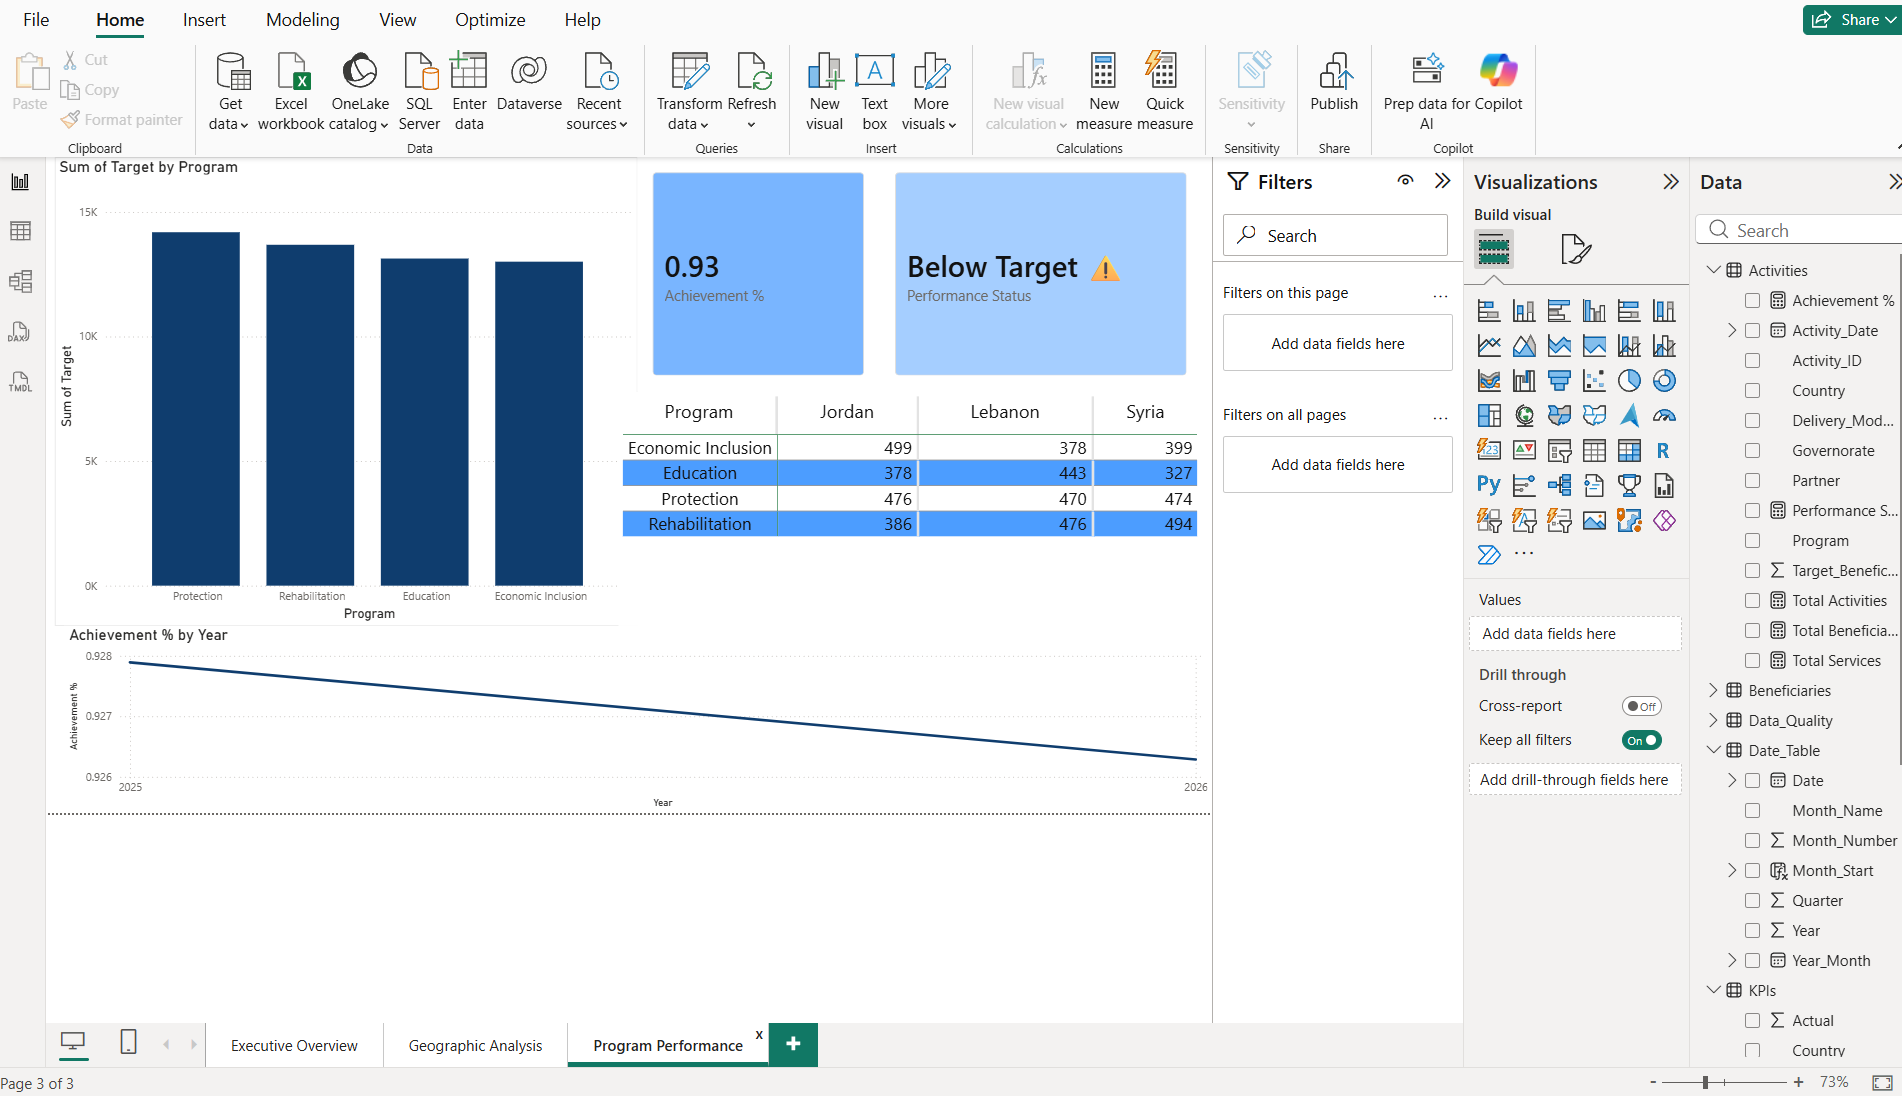

Layout of this report page (visuals, bound fields, positions):
{"tool":"powerbi","page":{"name":"Program Performance","canvas":[1280,720],"ordinal":2},"visuals":[{"type":"clusteredColumnChart","fields":{"Category":["KPIs.Program"],"Y":["Sum(KPIs.Target)"]},"box":[9.6,0,639.5,514.6],"z":0},{"type":"lineChart","fields":{"Category":["Month_table.Month.Variation.Date Hierarchy.Year"],"Y":["Activities.Achievement %"]},"box":[20.6,514.6,1259.7,205.8],"z":1},{"type":"cardVisual","fields":{"Data":["Activities.Achievement %"]},"box":[649.1,0,266.2,258],"z":3},{"type":"pivotTable","fields":{"Values":["Activities.Total Services"],"Columns":["Activities.Country"],"Rows":["Activities.Program"]},"box":[628.5,258,640.8,256.6],"z":4},{"type":"cardVisual","fields":{"Data":["Activities.Performance Status"]},"box":[915.3,0,354,258],"z":5}]}

Visuals, with their boxes on the page's 1280x720 design canvas (x1, y1, x2, y2). These are canvas units, not pixel positions in the 1902x1096 screenshot, which may show the page scaled, cropped or inside an application window:
clusteredColumnChart - KPIs.Program x Sum(KPIs.Target): bbox=[10, 0, 649, 515]
lineChart - Month_table.Month.Variation.Date Hierarchy.Year x Activities.Achievement %: bbox=[21, 515, 1280, 720]
cardVisual - Activities.Achievement %: bbox=[649, 0, 915, 258]
pivotTable - Activities.Total Services x Activities.Country: bbox=[628, 258, 1269, 515]
cardVisual - Activities.Performance Status: bbox=[915, 0, 1269, 258]
